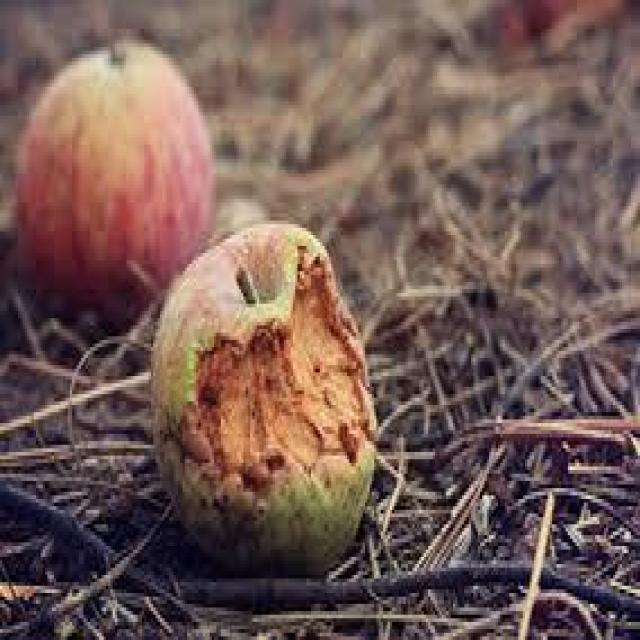maca: (146, 217, 378, 575), (12, 32, 216, 326)
